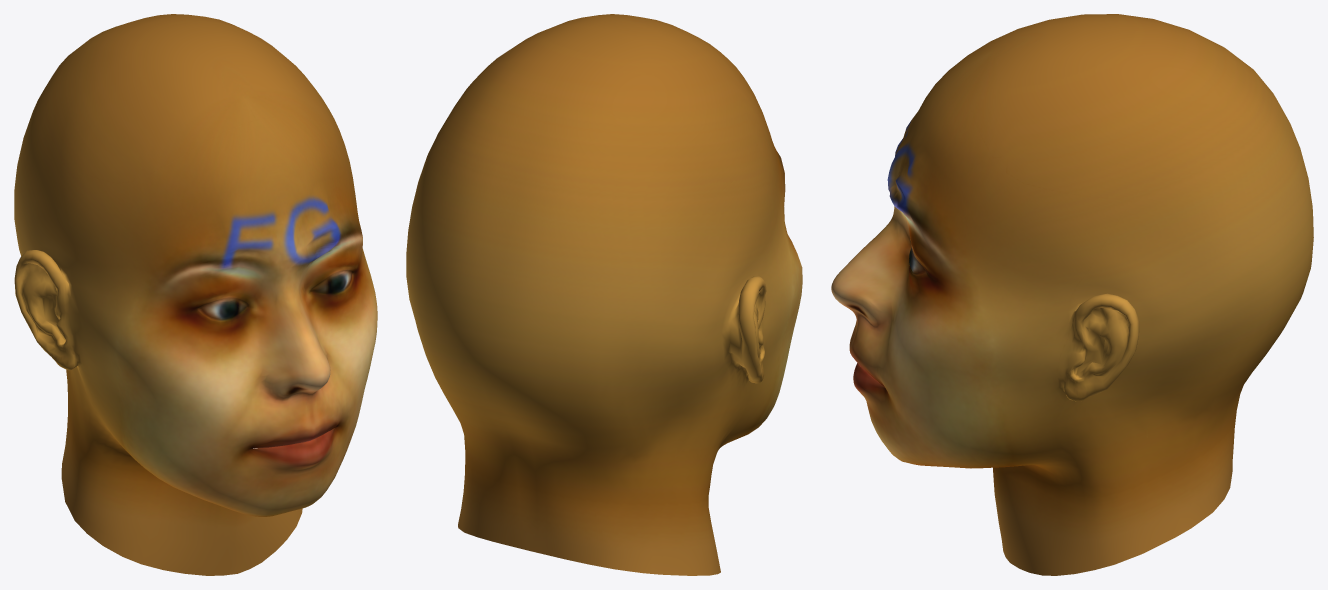
File: avg_anyrace_female_07.obj
The picture shows the model from 3 angles, left to right: view 1: azimuth 30°, elevation 25°; view 2: azimuth 150°, elevation 25°; view 3: azimuth 270°, elevation 25°; orthographic projection. The views are drawn at different scales.
Visible parts, largest first — view 1: HeadHires; view 2: HeadHires; view 3: HeadHires.
Boxes of the visible parts, x1=… form: HeadHires: x1=14, y1=14, x2=377, y2=575; HeadHires: x1=406, y1=14, x2=802, y2=575; HeadHires: x1=831, y1=14, x2=1313, y2=575.
Bounding box in the file's own units: 188 × 283 × 237.
Materials: 1 (1 with a texture image).
